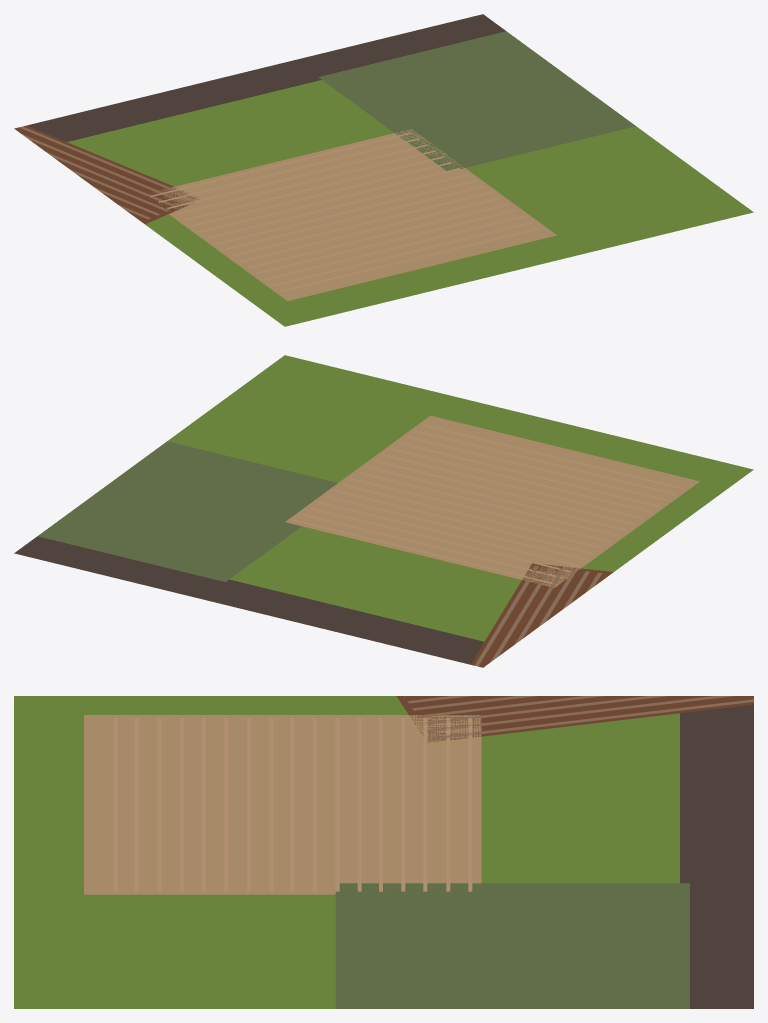
File: crossing-8-5.glb
3 renders of one model, top to bottom at view 1: azimuth 30°, elevation 25°; view 2: azimuth 150°, elevation 25°; view 3: azimuth 270°, elevation 25°, orthographic. The views are drawn at different scales.
Parts seen in each view (by area): view 1: crossing-8-5; view 2: crossing-8-5; view 3: crossing-8-5.
Boxes of the visible parts, x1,y1,x2,y2 form: crossing-8-5: (14, 14, 753, 326); crossing-8-5: (14, 355, 753, 667); crossing-8-5: (14, 696, 753, 1008).
Size of the model in its own units: 100 by 0.0064 by 100.
